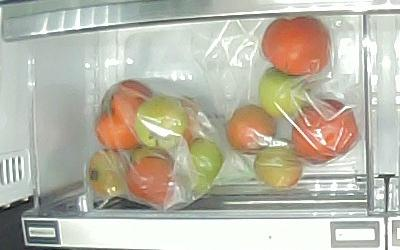tomato: (263, 16, 330, 75)
tomato_vinyl: (291, 98, 360, 163), (95, 80, 155, 151), (257, 66, 310, 120), (135, 95, 187, 149), (126, 150, 176, 206), (178, 138, 225, 196), (227, 104, 276, 156), (254, 146, 305, 189), (87, 149, 130, 199)
